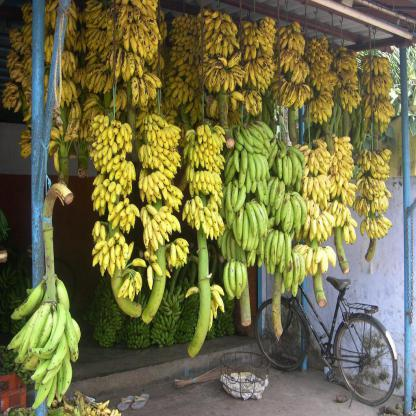Banana: (0, 0, 396, 415)
